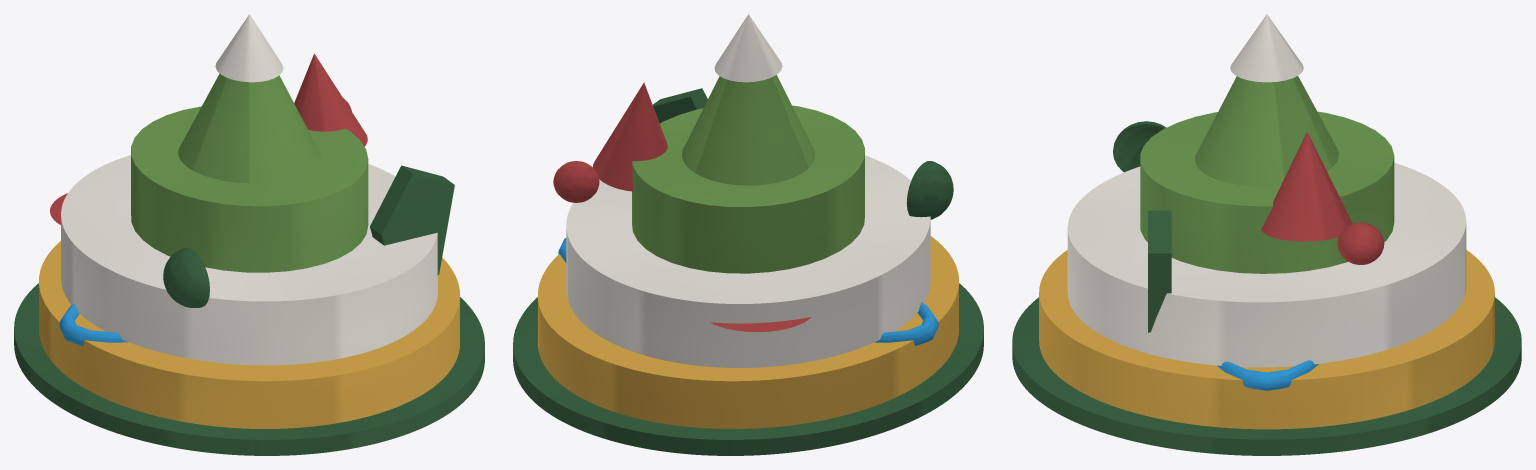
The model's file is 0624_地貌图鉴_褶皱山.glb.
3 renders of one model, left to right at view 1: azimuth 30°, elevation 25°; view 2: azimuth 150°, elevation 25°; view 3: azimuth 270°, elevation 25°, orthographic.
Parts seen in each view (by area): view 1: card_0624; view 2: card_0624; view 3: card_0624.
Part boxes in pixels (x1,y1,x2,y2): card_0624: (14,14,484,455); card_0624: (513,14,983,455); card_0624: (1012,14,1521,455).
Size of the model in its own units: 1.23 by 1 by 1.34.
